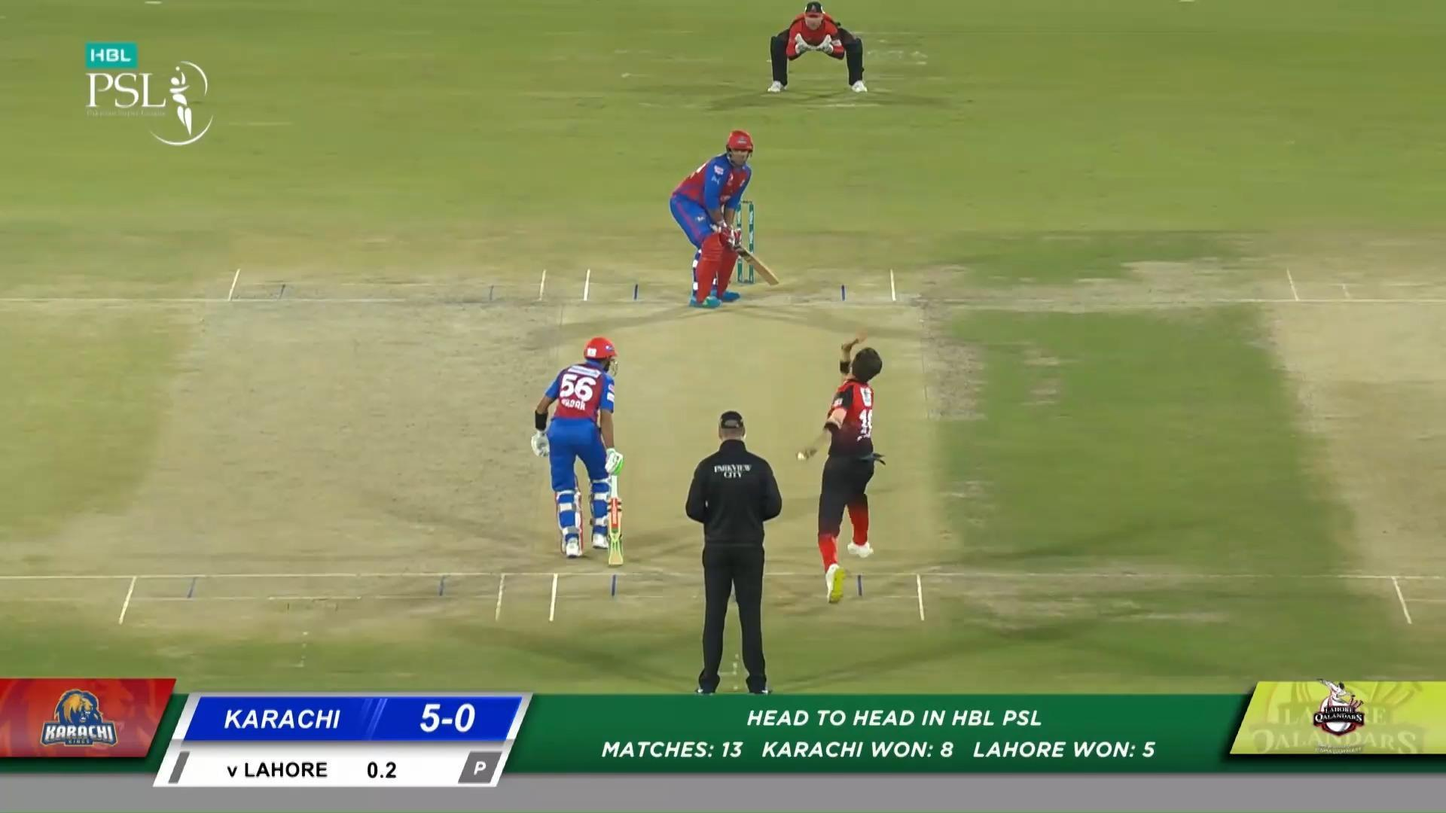BM 1: (669, 129, 779, 309)
BO: (808, 325, 888, 606)
